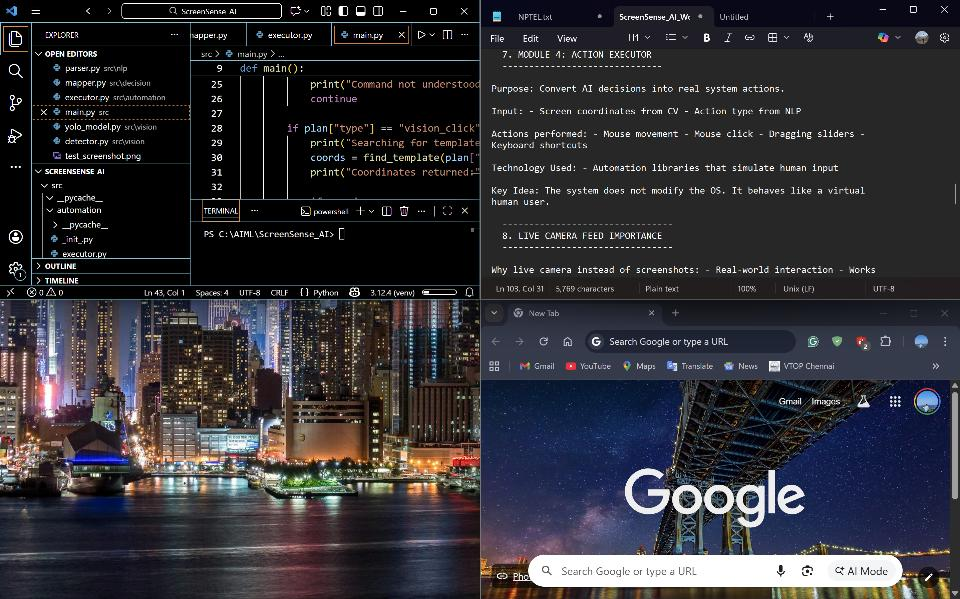close_button: (933, 300, 957, 325), (933, 0, 955, 23), (454, 0, 475, 22)
maximize_button: (904, 300, 925, 328), (422, 0, 445, 23), (903, 1, 927, 23)
minimize_button: (869, 300, 899, 328), (875, 1, 895, 23), (395, 0, 413, 21)
